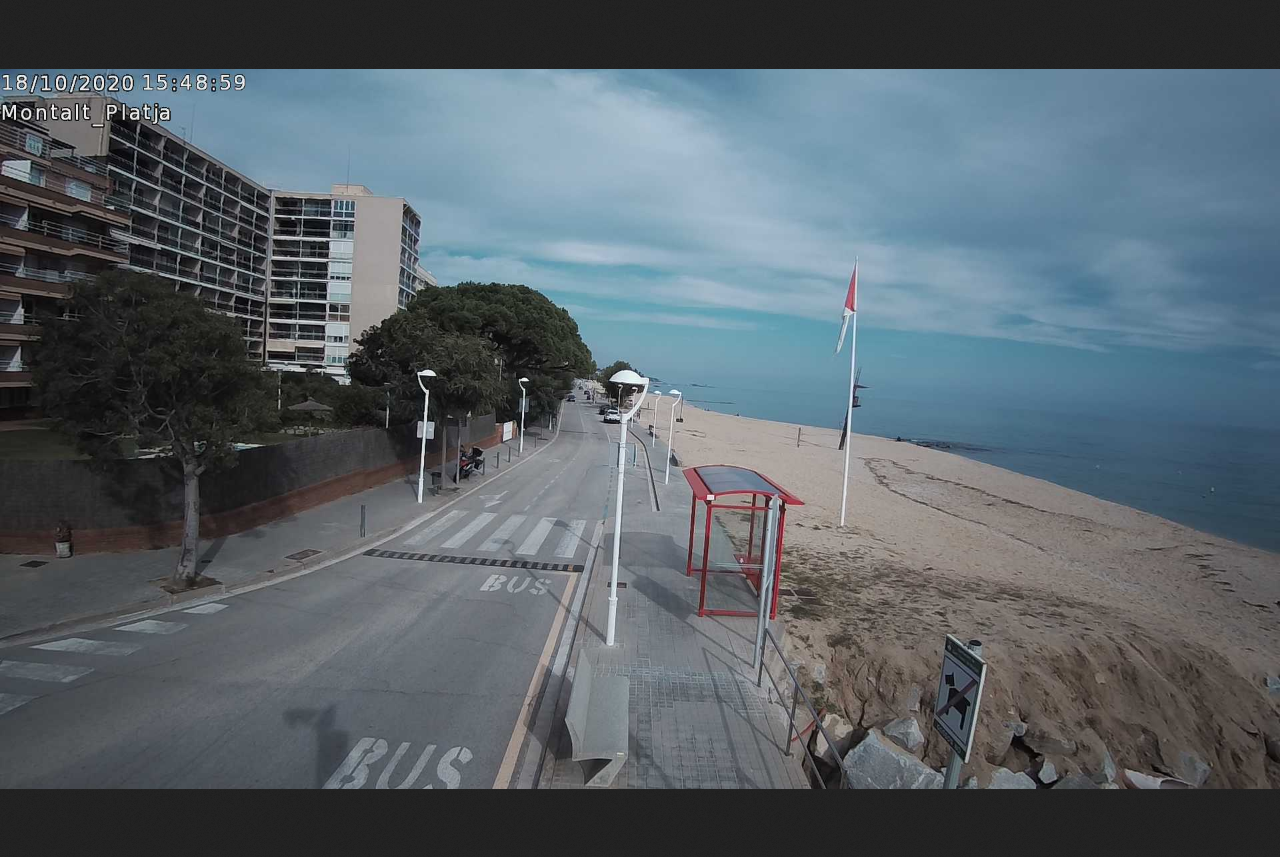no: (833, 263, 859, 355)
